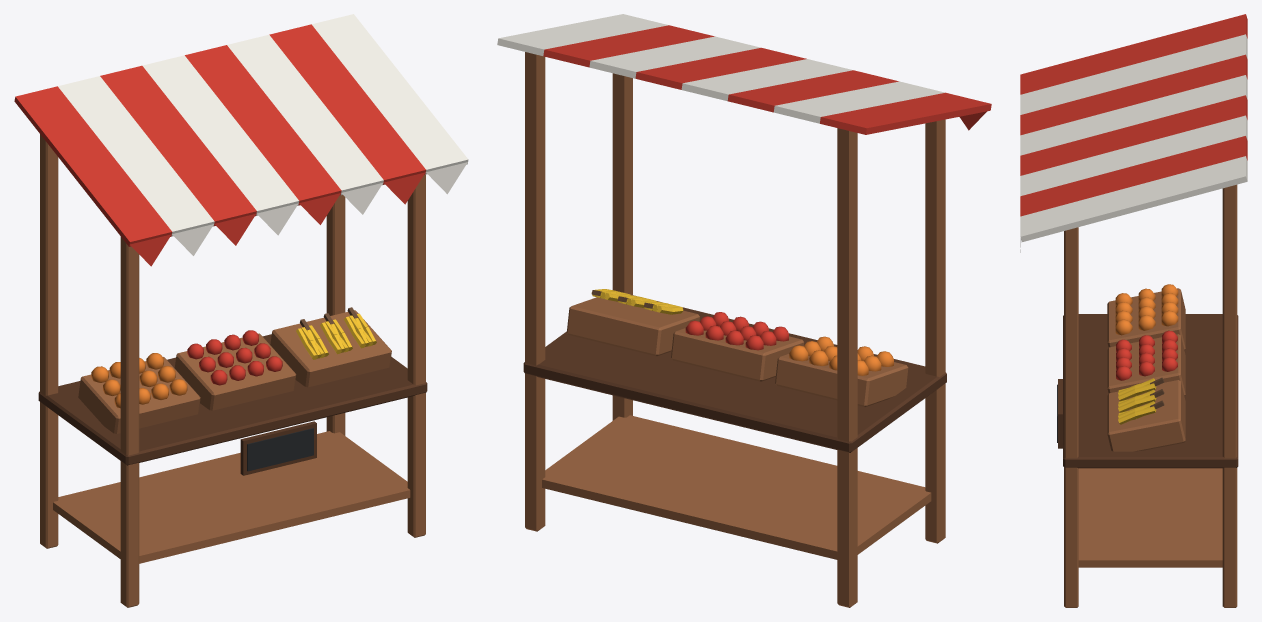
The model's file is banca_frutas.glb.
The picture shows the model from 3 angles, left to right: view 1: azimuth 30°, elevation 25°; view 2: azimuth 150°, elevation 25°; view 3: azimuth 270°, elevation 25°; orthographic projection. The views are drawn at different scales.
Parts seen in each view (by area): view 1: banca_frutas; view 2: banca_frutas; view 3: banca_frutas.
Boxes of the visible parts, box(x1,y1,x2,y2) form: banca_frutas: box(14, 14, 468, 607); banca_frutas: box(497, 14, 991, 607); banca_frutas: box(1020, 14, 1247, 607).
Size of the model in its own units: 1.84 by 2.33 by 1.09.
